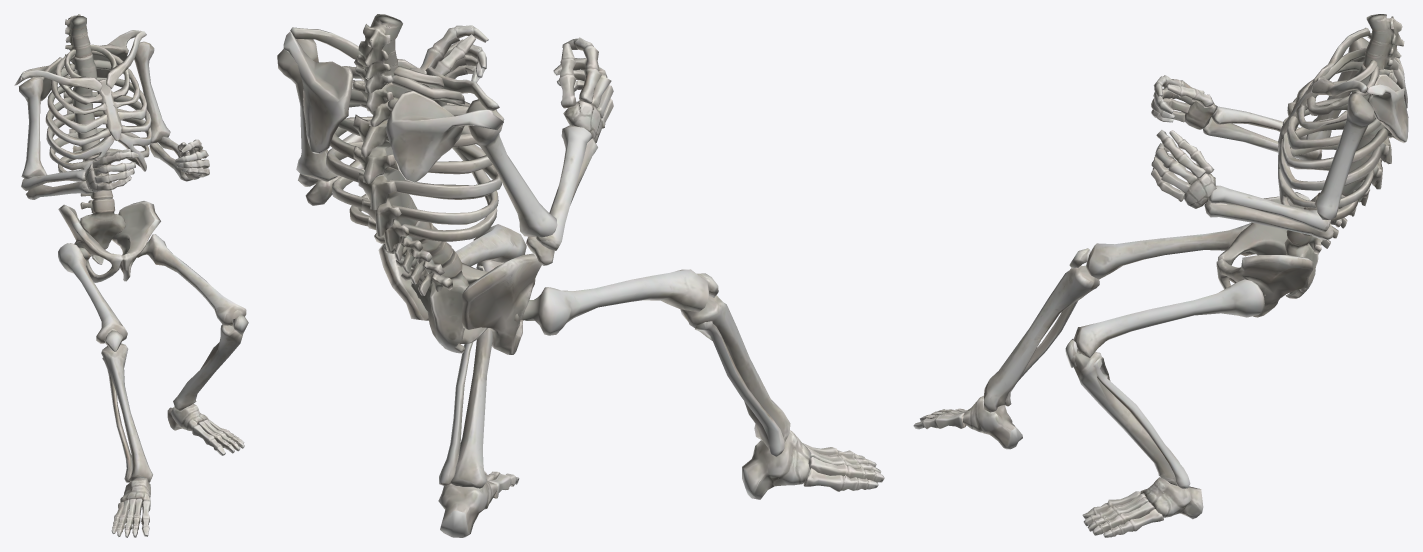
3 renders of one model, left to right at view 1: azimuth 30°, elevation 25°; view 2: azimuth 150°, elevation 25°; view 3: azimuth 270°, elevation 25°, orthographic. The views are drawn at different scales.
Visible parts, largest first — view 1: SM_Skeleton_Sitting_Quest_Headless_01_LOD0; view 2: SM_Skeleton_Sitting_Quest_Headless_01_LOD0; view 3: SM_Skeleton_Sitting_Quest_Headless_01_LOD0.
Boxes of the visible parts, x1,y1,x2,y2 form: SM_Skeleton_Sitting_Quest_Headless_01_LOD0: (14,14,248,537); SM_Skeleton_Sitting_Quest_Headless_01_LOD0: (277,14,884,537); SM_Skeleton_Sitting_Quest_Headless_01_LOD0: (913,14,1408,537).
Size of the model in its own units: 0.7128 by 1.24 by 1.15.
Materials: 1 (1 with a texture image).
